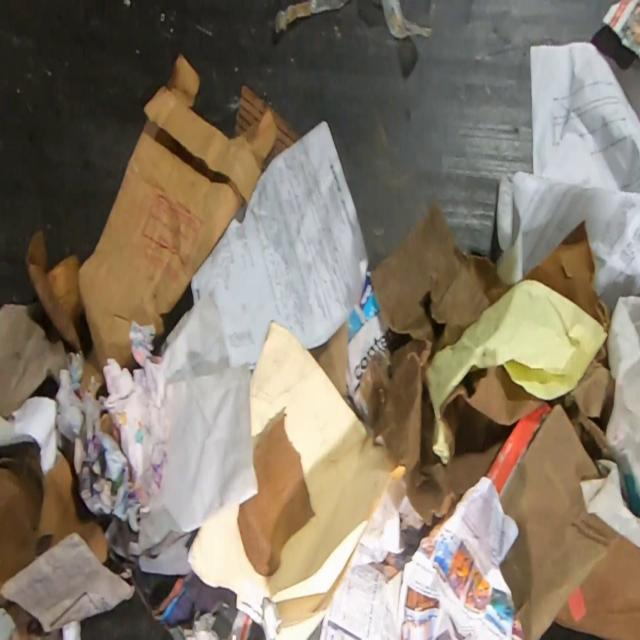cardboard: (77, 54, 277, 399), (498, 403, 623, 640), (25, 229, 93, 364), (553, 536, 640, 640), (235, 84, 301, 177), (308, 317, 350, 402)
soft_plastic: (273, 0, 348, 33), (379, 0, 432, 39)
